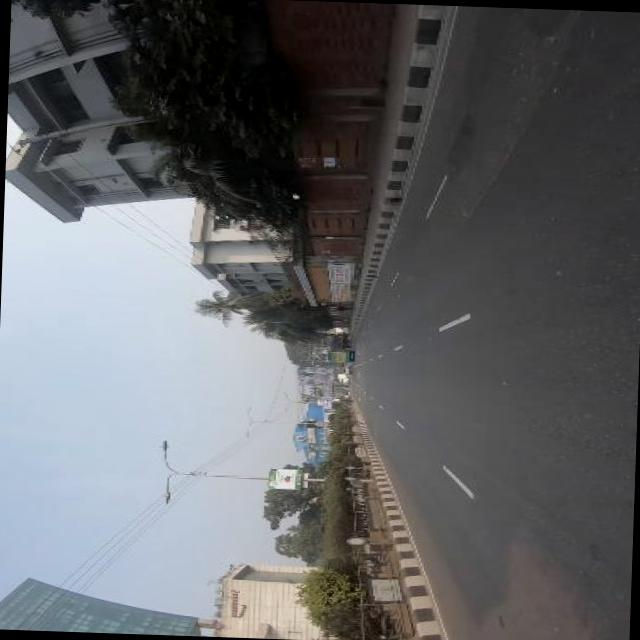bus: (326, 345, 353, 361)
car: (340, 363, 352, 372)
truck: (324, 329, 350, 347), (334, 372, 350, 384)
